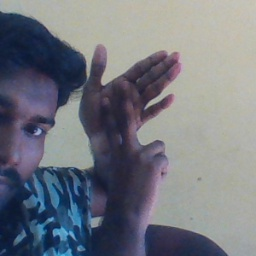N: (73, 42, 185, 182)
